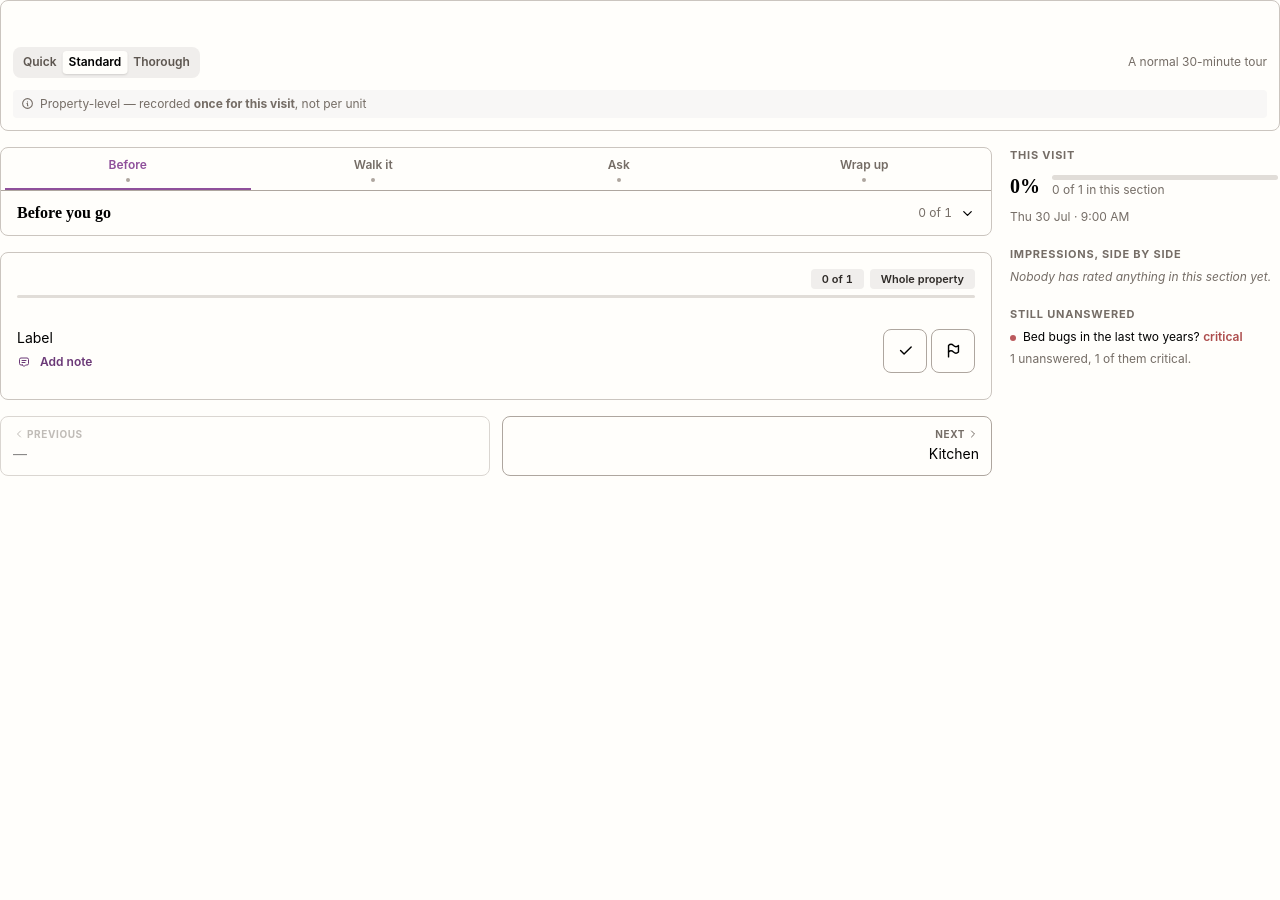
Test: impressions › labels an impression as the viewer's own
Click the button "Before you go 0 of 1" at (64, 212), box 13,191 -> 979,235
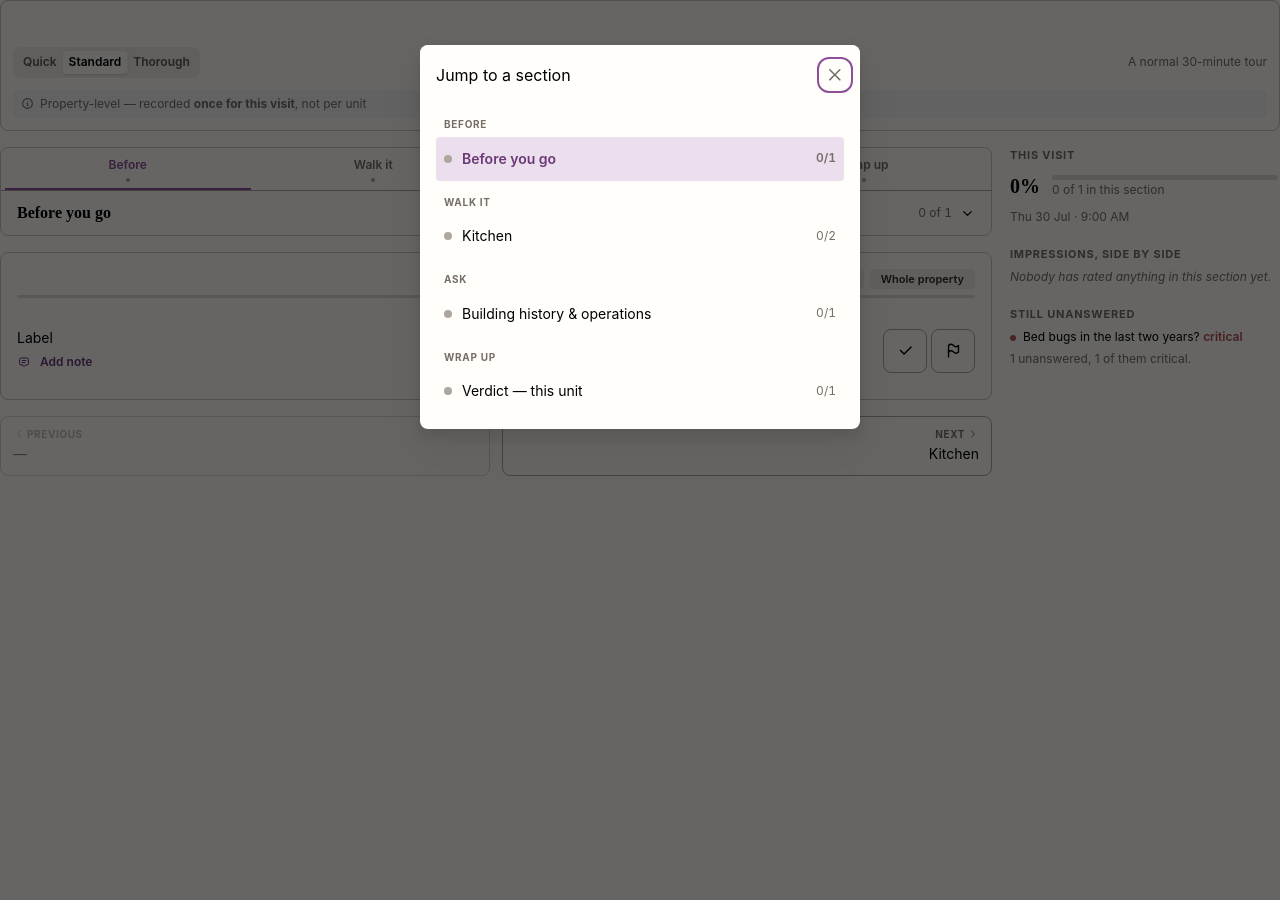
Click the button "Verdict — this unit 0/1" at (522, 391), box 436,369 -> 844,413
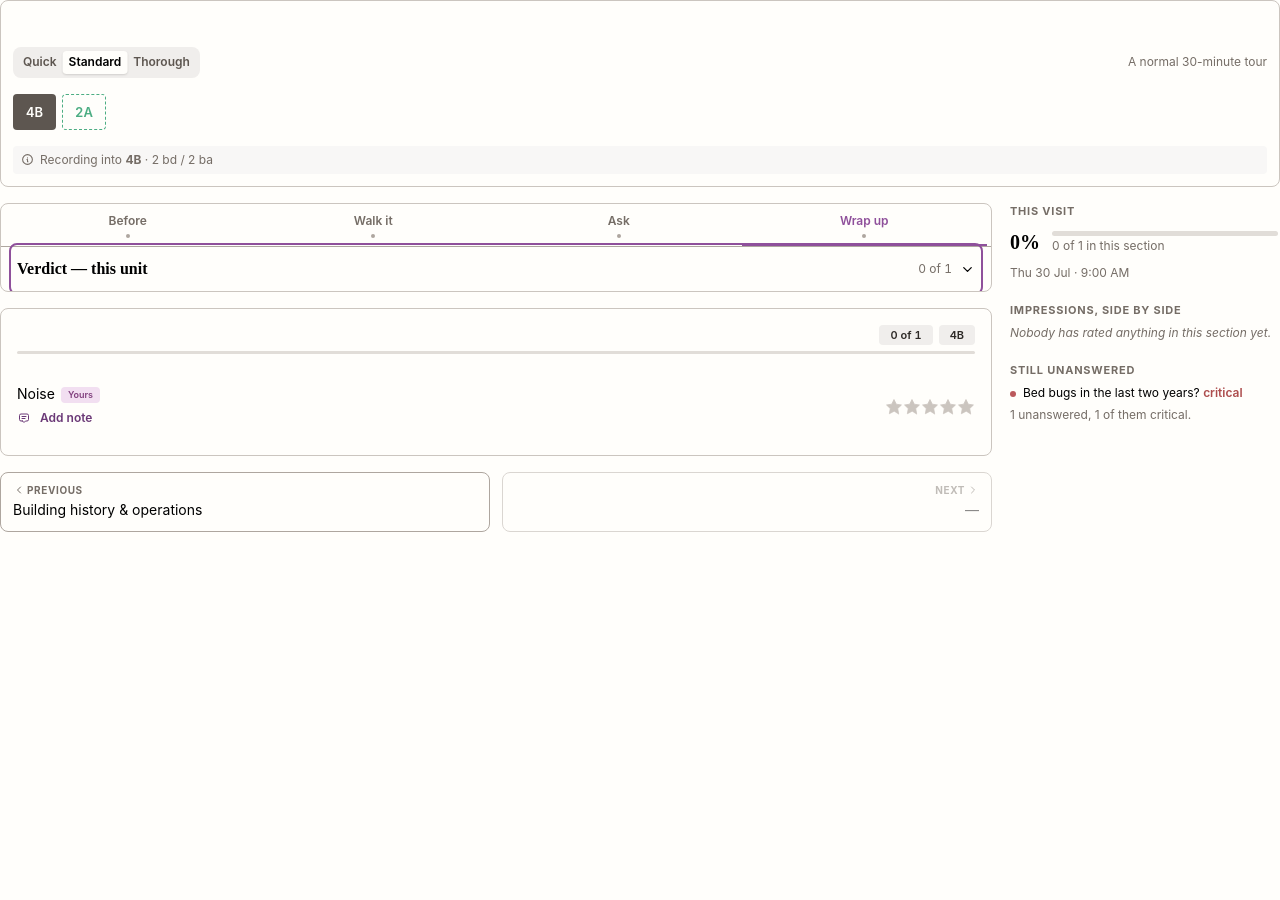
Check: the text "Yours" is shown, box 68,388 -> 93,402
